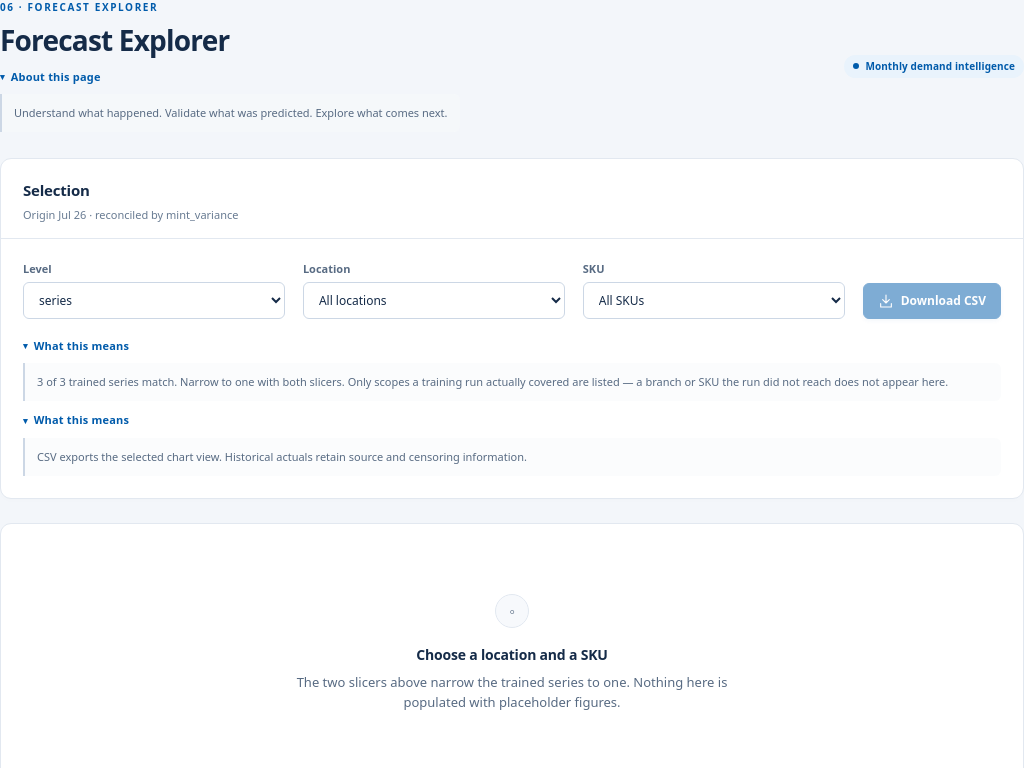
ForecastExplorerPage slicers › resolves the series once one scope matches, with no extra click
Select "BENGALURU" in the dropdown labelled "Location" at point(434, 300), box top-left (303, 282), bottom-right (565, 319)
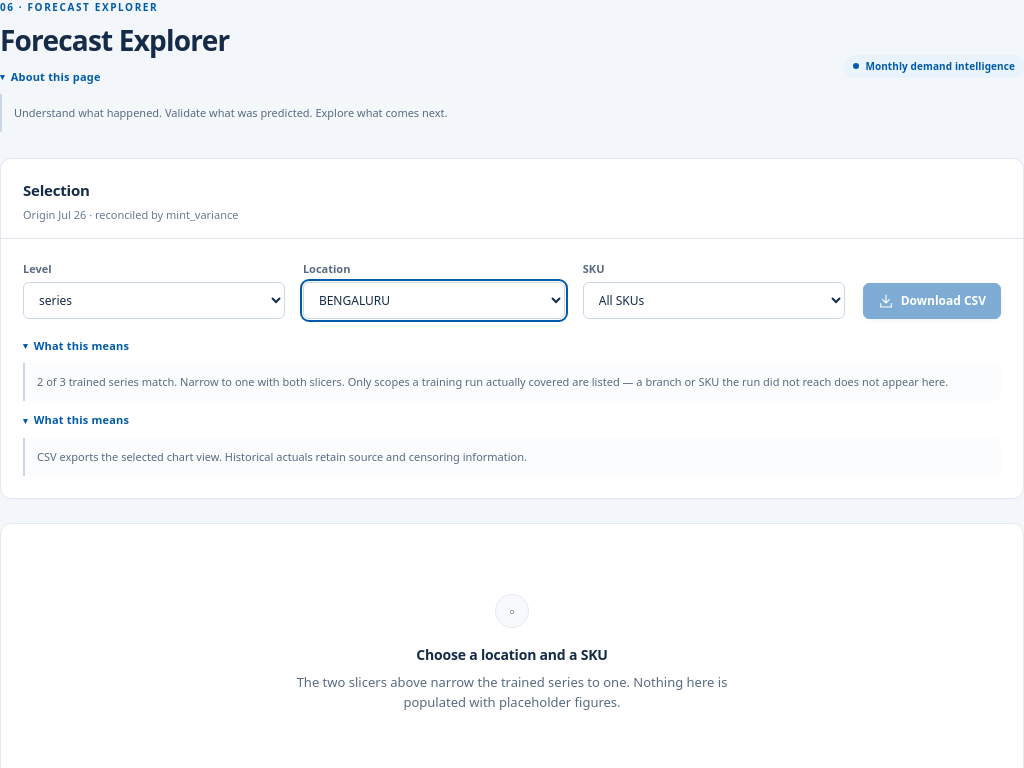
Select "SKU-B" in the dropdown labelled "SKU" at point(714, 300), box top-left (583, 282), bottom-right (845, 319)
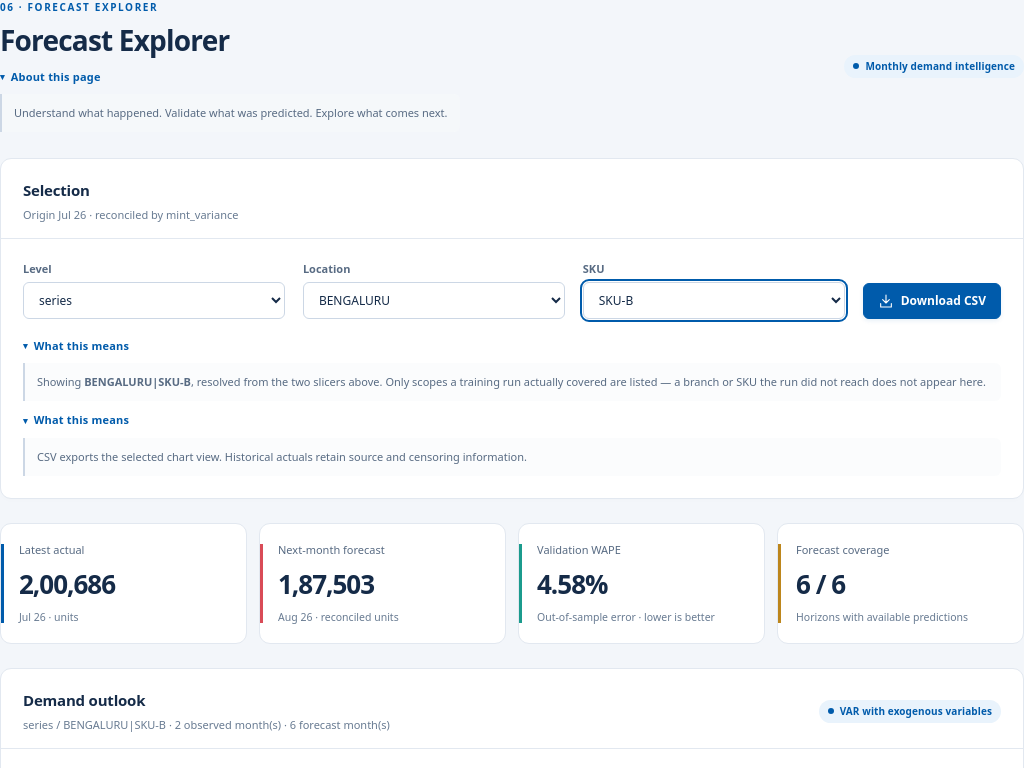
Expected: the text "BENGALURU|SKU-B" is shown, top-left (84, 374), bottom-right (191, 389)
